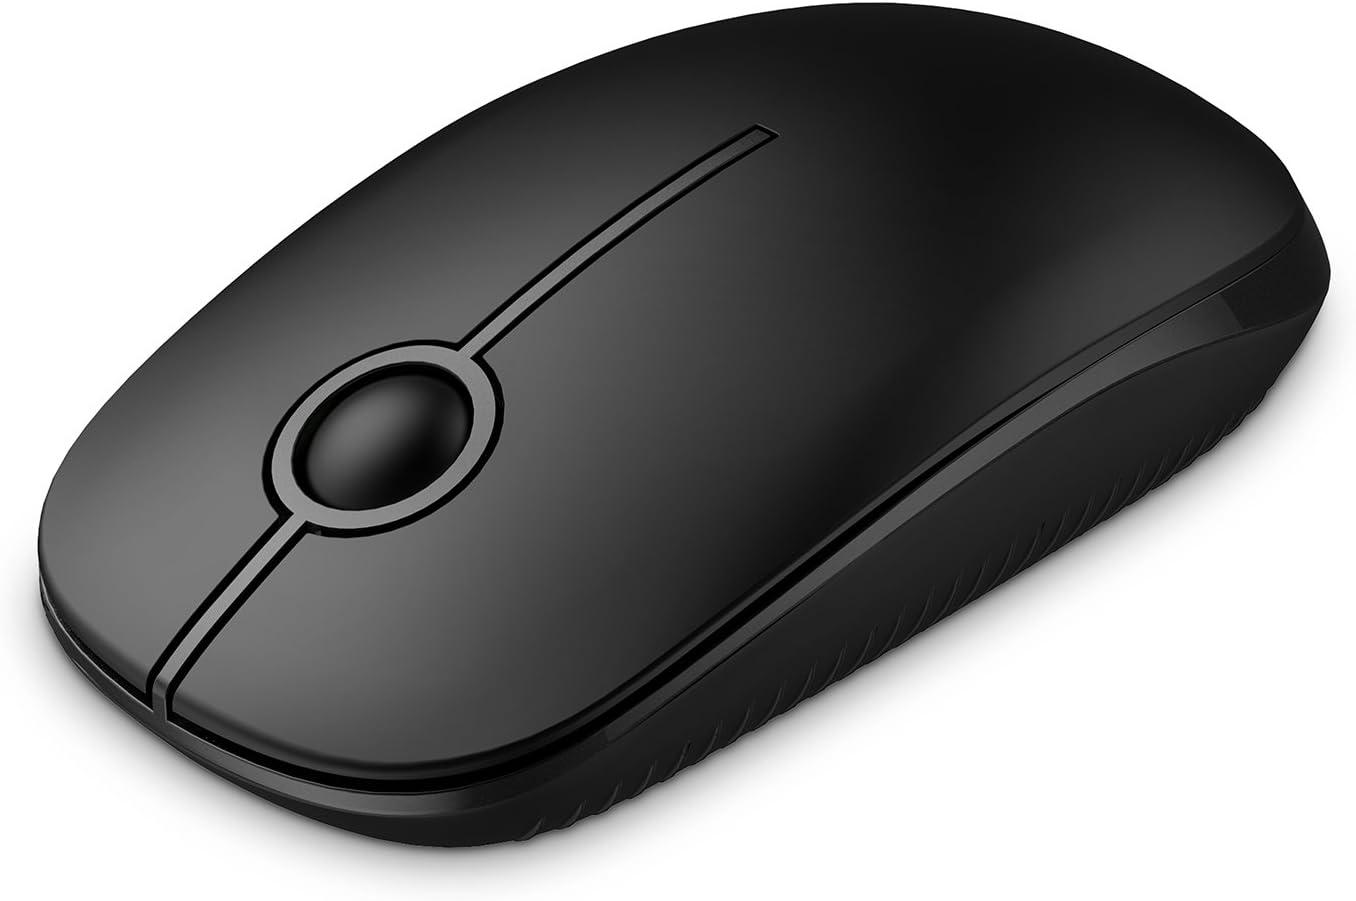computer mouse: (35, 3, 1334, 854)
